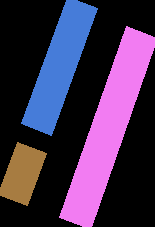parkingspot: (59, 26, 155, 227), (21, 0, 97, 135), (0, 142, 46, 205)
